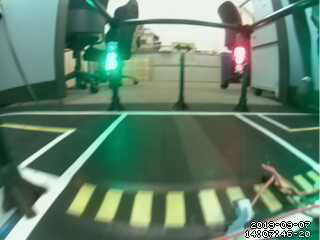Left_Right_sign: (171, 43, 202, 55)
Traffic_light_green: (107, 43, 119, 70)
Traffic_light_red: (232, 46, 247, 75)
